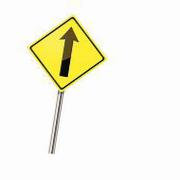forward: (29, 15, 107, 91)
